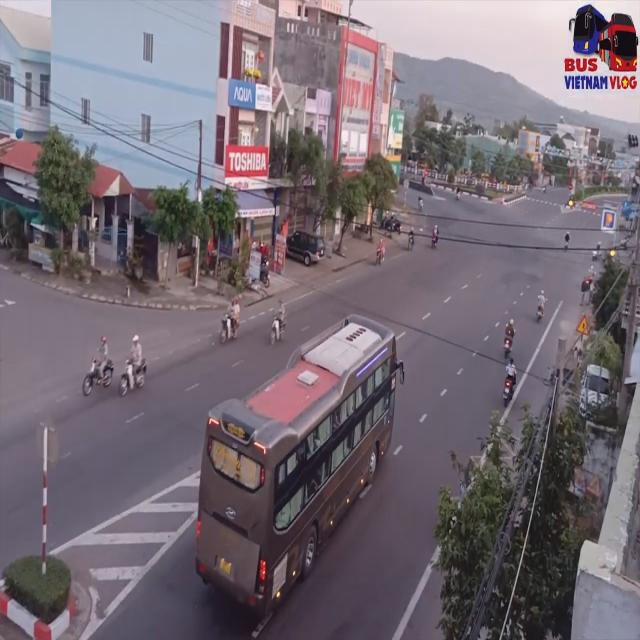bus: (192, 316, 404, 638)
motorbike: (82, 336, 112, 399), (123, 335, 148, 398), (218, 296, 239, 348), (271, 298, 287, 346), (502, 359, 518, 404), (534, 288, 547, 324), (503, 319, 514, 355), (376, 236, 386, 266)
